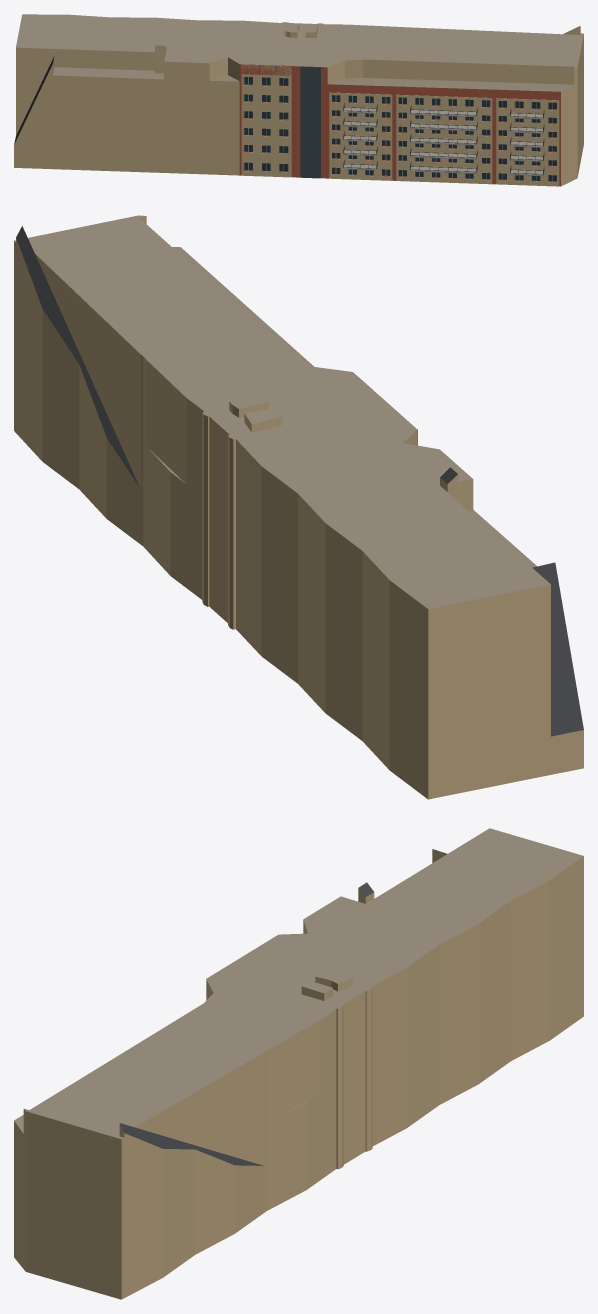
The model's file is recipe-large-polderweg-502-646-242963.glb.
3 renders of one model, top to bottom at view 1: azimuth 30°, elevation 25°; view 2: azimuth 150°, elevation 25°; view 3: azimuth 270°, elevation 25°, orthographic. The views are drawn at different scales.
Visible parts, largest first — view 1: polderweg-502-646-242963; view 2: polderweg-502-646-242963; view 3: polderweg-502-646-242963.
Boxes of the visible parts, left/top/right/bottom form: polderweg-502-646-242963: left=14, top=14, right=583, bottom=186; polderweg-502-646-242963: left=14, top=215, right=583, bottom=799; polderweg-502-646-242963: left=14, top=828, right=583, bottom=1299.
Size of the model in its own units: 85.91 by 22 by 65.02.
